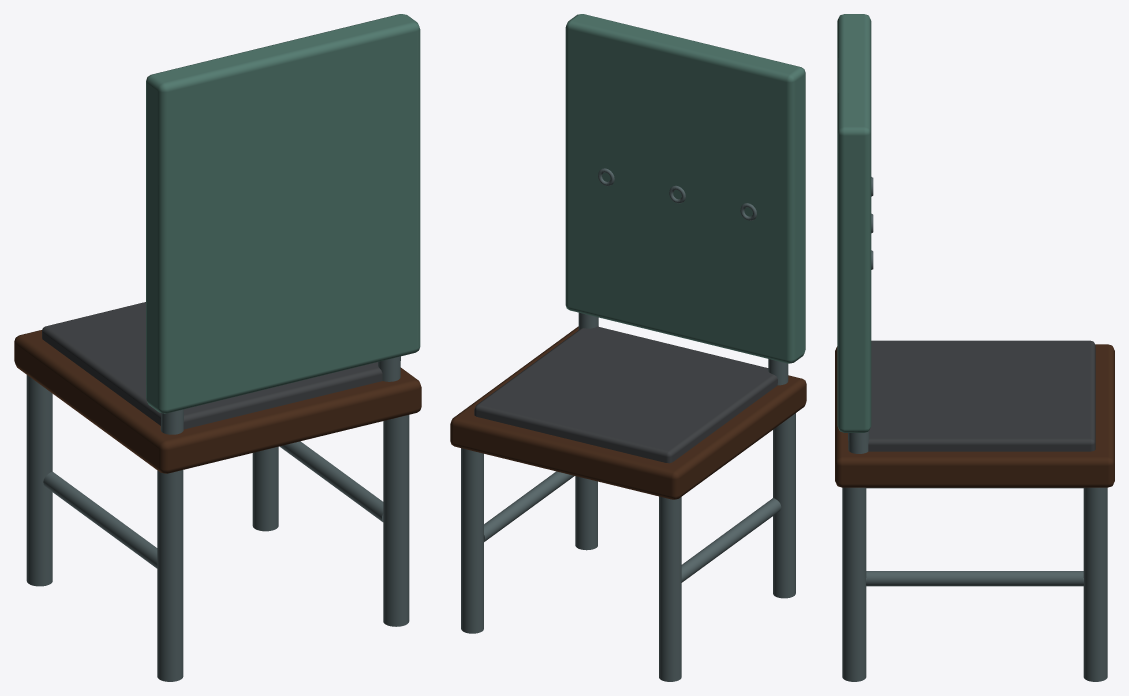
Rendered from Chair.obj.
3 renders of one model, left to right at view 1: azimuth 30°, elevation 25°; view 2: azimuth 150°, elevation 25°; view 3: azimuth 270°, elevation 25°, orthographic. The views are drawn at different scales.
Parts seen in each view (by area): view 1: Chair; view 2: Chair; view 3: Chair.
Boxes of the visible parts, x1,y1,x2,y2 form: Chair: [14, 14, 421, 681]; Chair: [450, 14, 806, 681]; Chair: [835, 14, 1114, 681].
Bounding box in the file's own units: 0.58 × 1.27 × 0.58.
